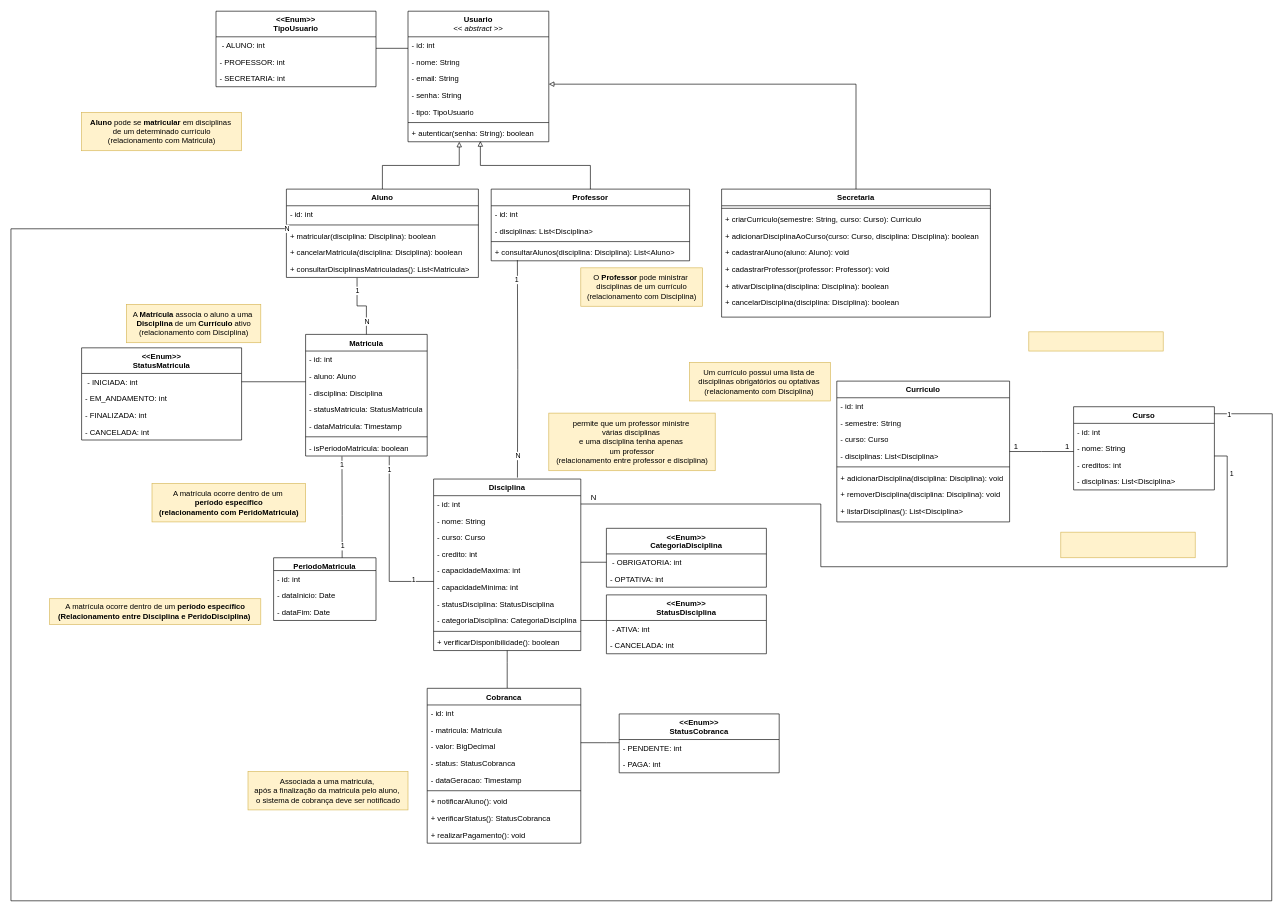
Some shapes in this 1284 by 913 pixel diagram are drawn without their labels. Here are the shapes that lost their labels. From the top down, the centre of each, then its label:
the point at 1095,341: Secretaria Cria e gerencia curriculo
the point at 1127,545: Cada Curriculo pertece a um curso (relacionamento com Curriculo)
